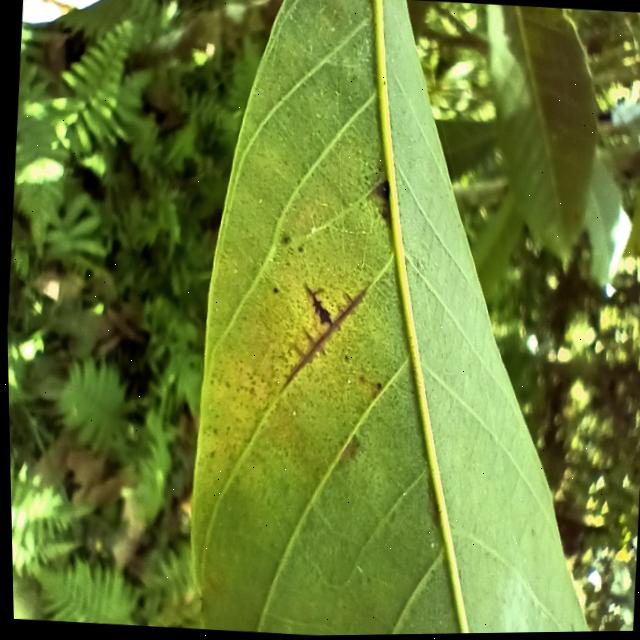Colletotrichum: (270, 288, 275, 294)
Corynespora: (274, 278, 367, 399)
